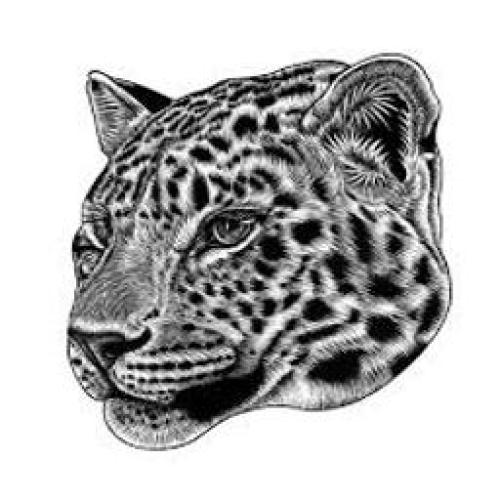amur_leopard-endangered: (59, 57, 447, 454)
